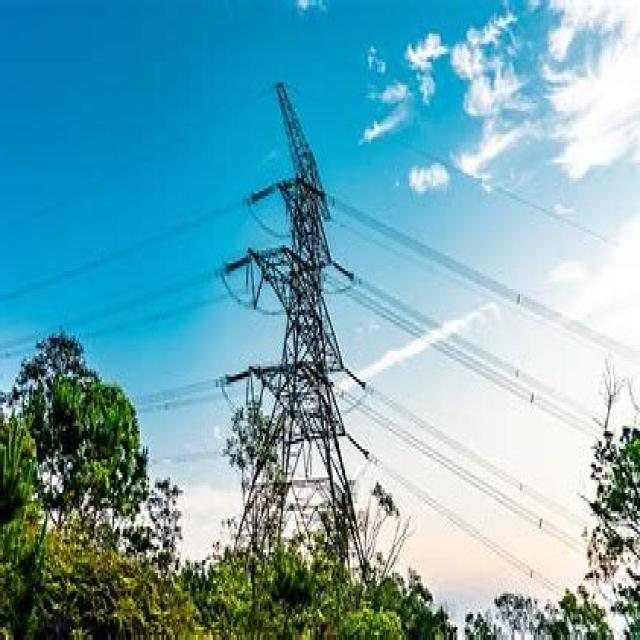utility poles: (25, 269, 172, 503), (225, 398, 342, 562)
